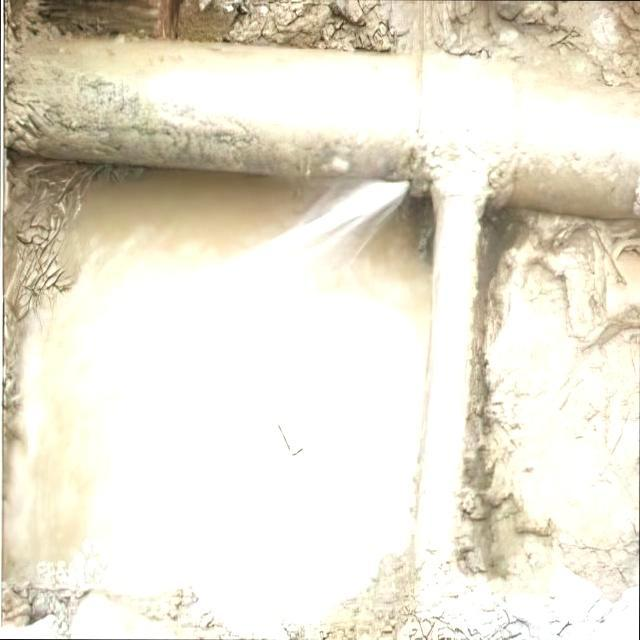pipe burst: (202, 168, 413, 299)
water accumulation: (2, 153, 432, 640)
